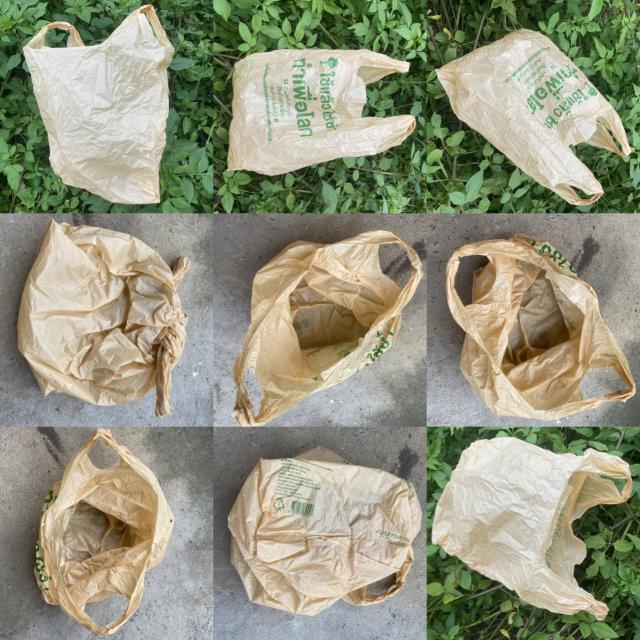Single-layer Plastic: (232, 230, 422, 426), (432, 438, 631, 620), (446, 234, 635, 420), (18, 218, 190, 418), (436, 29, 631, 204), (228, 446, 421, 615), (24, 5, 174, 204), (35, 429, 174, 636), (228, 50, 415, 175)
